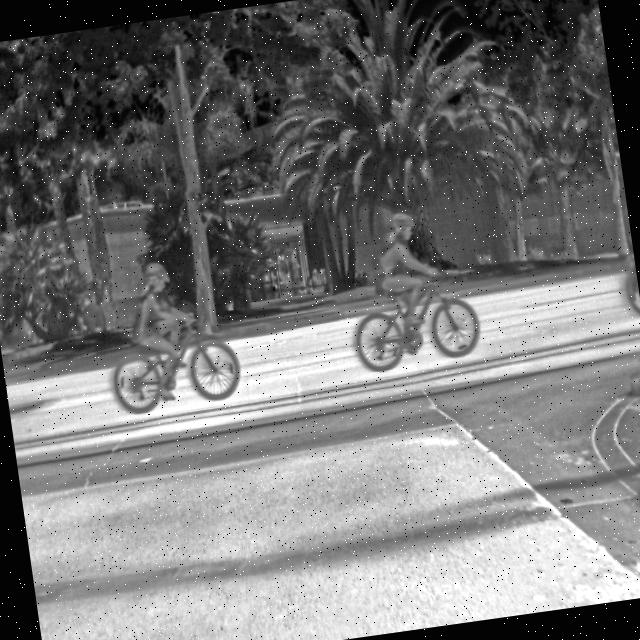Pedestrian: (98, 243, 247, 416), (337, 205, 484, 379)
